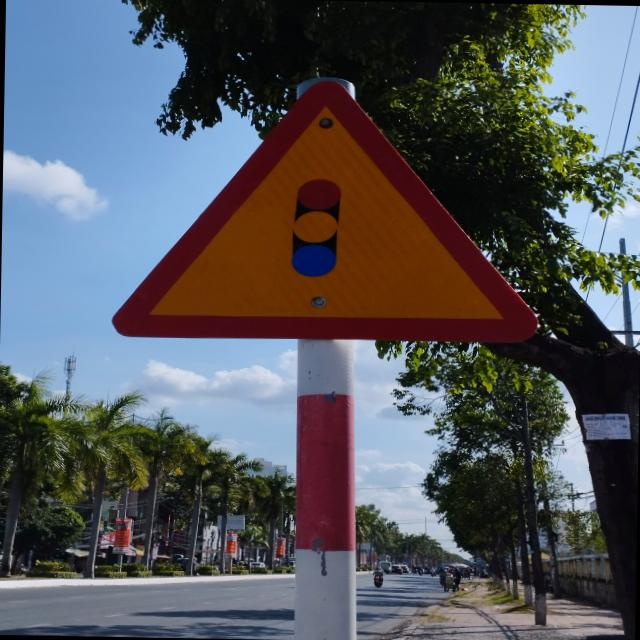Duong_Co_Go_Giam_Toc: (110, 77, 541, 342)
